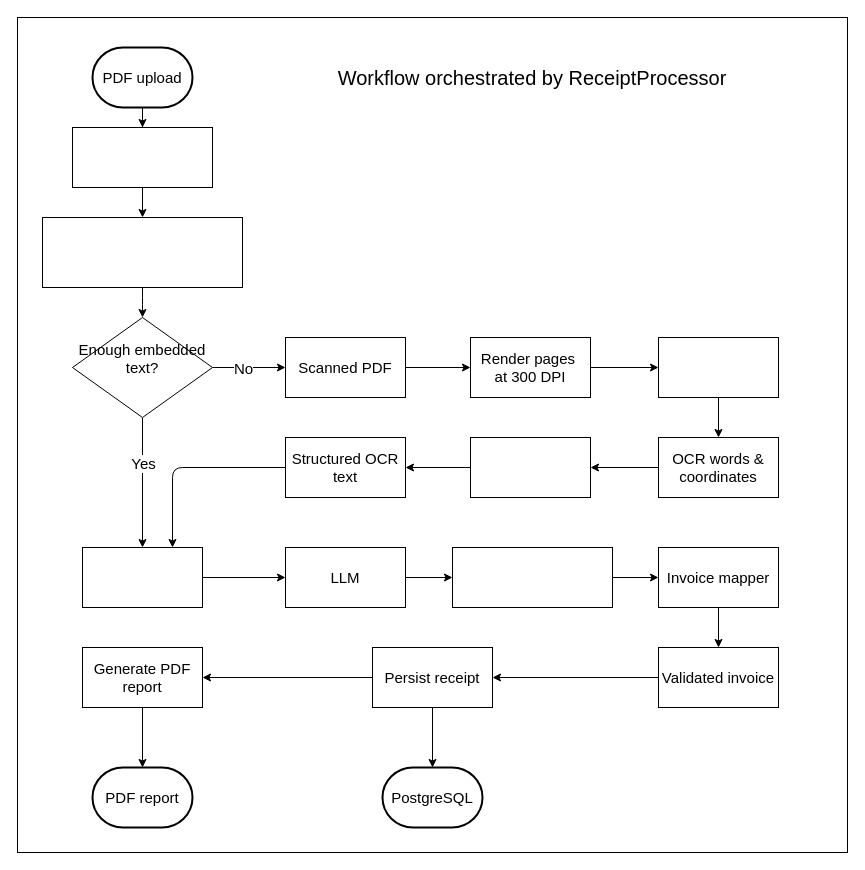
Some shapes in this 865 by 870 pixel diagram are drawn without their labels. The shapes that lost their labels are listed below. From the top down, each one's centre as x and y in pixels, then its label:
point 142,157: Document text extractor
point 142,252: PyMuPDF embedded text extraction
point 718,367: Tesseract OCR (eng+bul)
point 530,467: Layout reconstruction
point 142,577: Document text
point 532,577: Invoice extraction (Pydantic schema)
